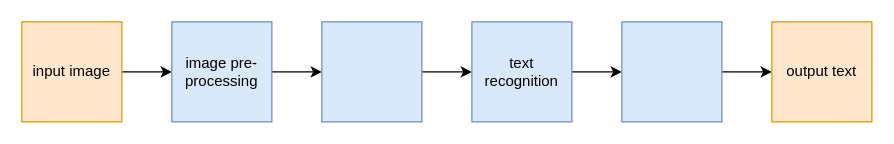
Some shapes in this 894 by 144 pixel diagram are drawn without their labels. Each missing label, with the box of its shape:
restructuring: (621, 21, 722, 122)
text detection: (321, 21, 422, 122)
